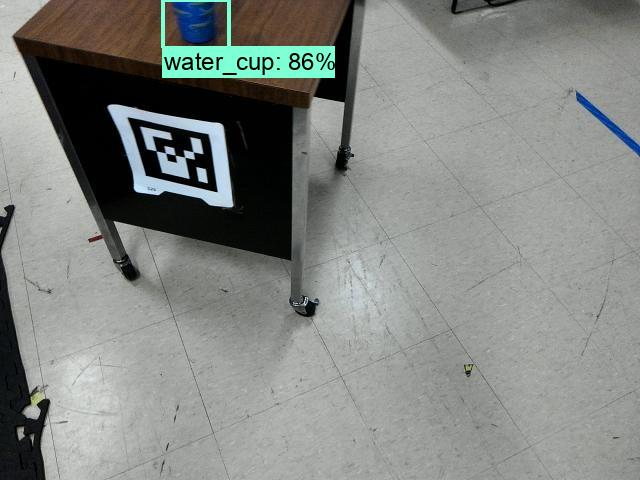water_cup: (165, 1, 226, 49)
